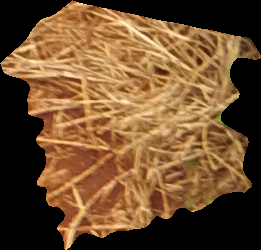soil: (1, 1, 261, 249)
